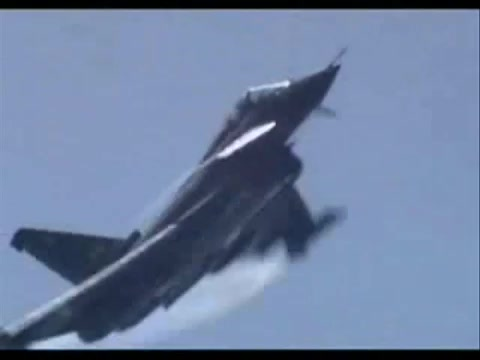aeroplane: (1, 46, 350, 349)
